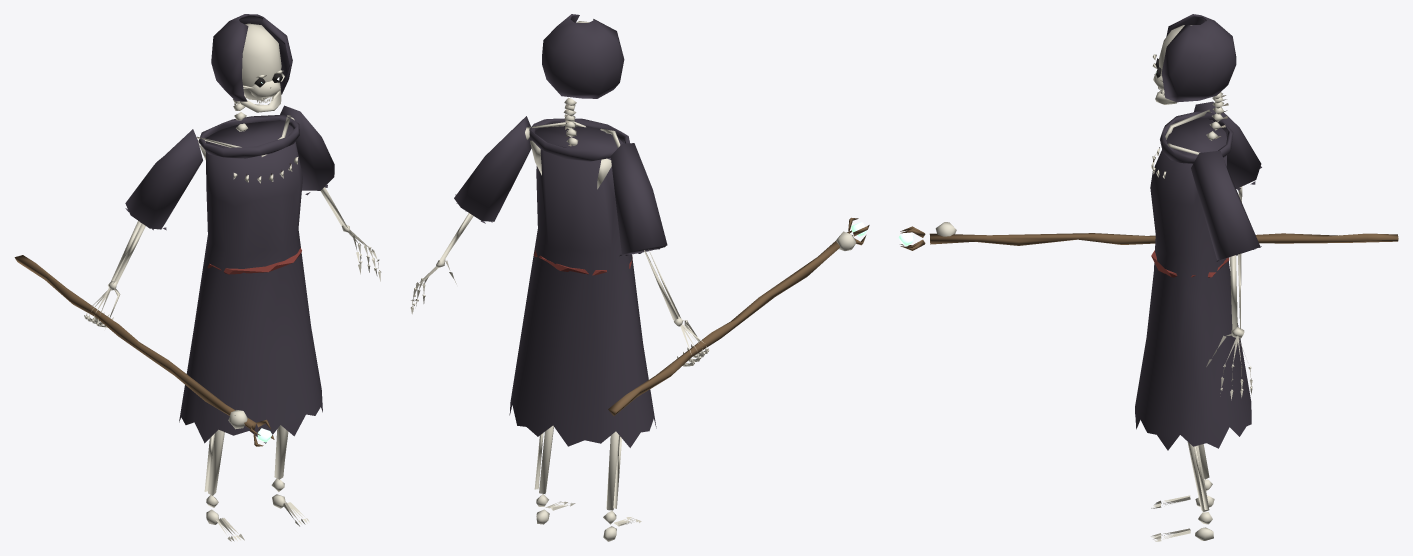
Rendered from undead_robe.glb.
3 renders of one model, left to right at view 1: azimuth 30°, elevation 25°; view 2: azimuth 150°, elevation 25°; view 3: azimuth 270°, elevation 25°, orthographic.
Parts seen in each view (by area): view 1: undead_robe__OW_Enemy_SkeletonHorde_Necromancer_MESH_d; view 2: undead_robe__OW_Enemy_SkeletonHorde_Necromancer_MESH_d; view 3: undead_robe__OW_Enemy_SkeletonHorde_Necromancer_MESH_d.
Part boxes in pixels (left/top/right/bottom): undead_robe__OW_Enemy_SkeletonHorde_Necromancer_MESH_d: left=14, top=14, right=381, bottom=541; undead_robe__OW_Enemy_SkeletonHorde_Necromancer_MESH_d: left=410, top=14, right=869, bottom=541; undead_robe__OW_Enemy_SkeletonHorde_Necromancer_MESH_d: left=898, top=14, right=1398, bottom=541.
Size of the model in its own units: 1.17 by 1.94 by 1.74.
